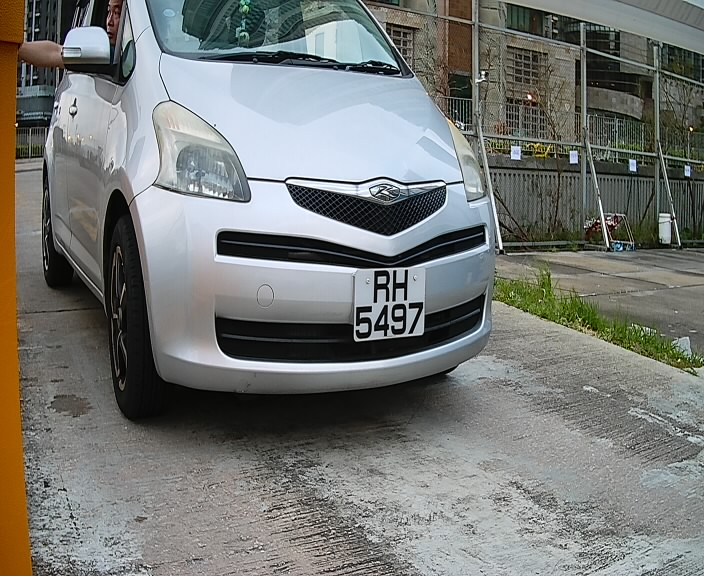Car: (44, 0, 511, 434)
License Plate: (346, 259, 434, 353)
